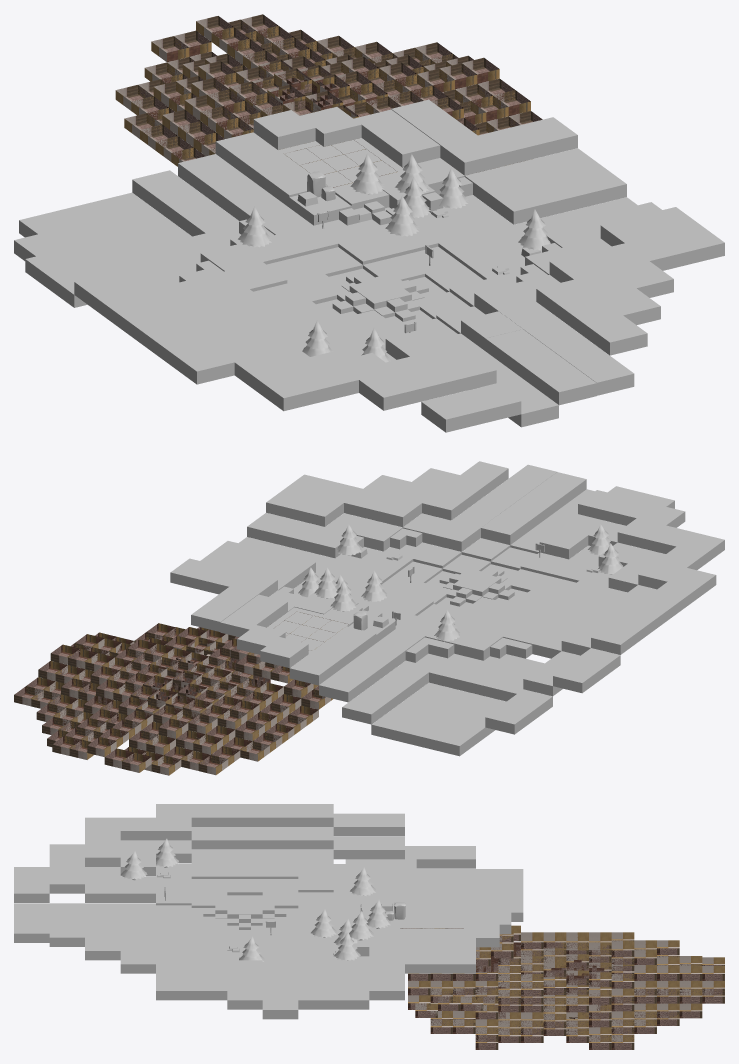
File: Pillar9 (1)_45_53_9708.fbx
3 views of the same model, one above another, from view 1: azimuth 30°, elevation 25°; view 2: azimuth 150°, elevation 25°; view 3: azimuth 270°, elevation 25° (orthographic). The views are drawn at different scales.
Visible parts, largest first — view 1: Wall_wood_el3, Pillar9 (1); view 2: Wall_wood_el3, Pillar9 (1); view 3: Wall_wood_el3, Pillar9 (1).
Part boxes in pixels (x1,y1,x2,y2): Wall_wood_el3: (14, 99, 724, 432); Pillar9 (1): (115, 14, 542, 187); Wall_wood_el3: (170, 461, 724, 756); Pillar9 (1): (14, 612, 348, 775); Wall_wood_el3: (14, 804, 523, 1019); Pillar9 (1): (400, 925, 724, 1049).
Bounding box in the file's own units: 14.4 × 2.58 × 21.46.
